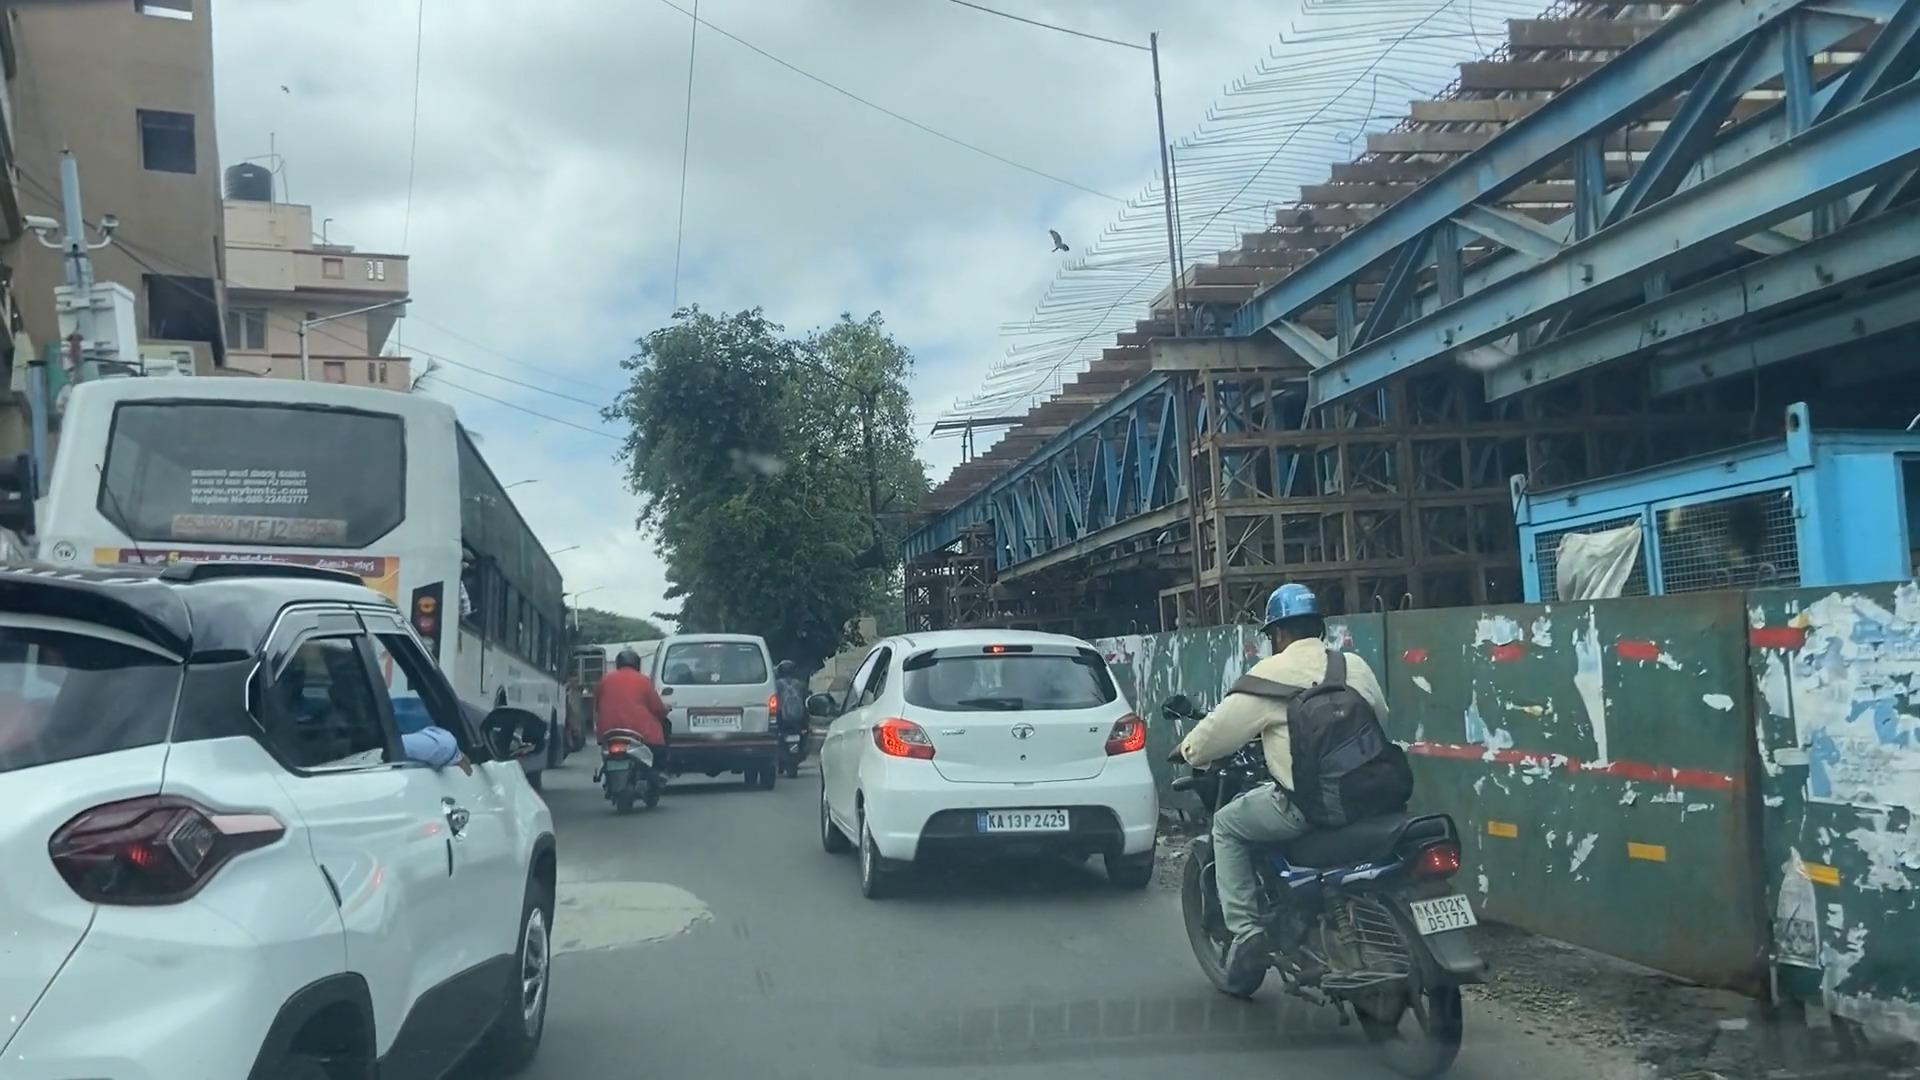LMV: (1196, 600, 1451, 1054), (876, 640, 1150, 907), (684, 636, 782, 787), (596, 650, 659, 804)
RoadDamages: (555, 880, 708, 956)
